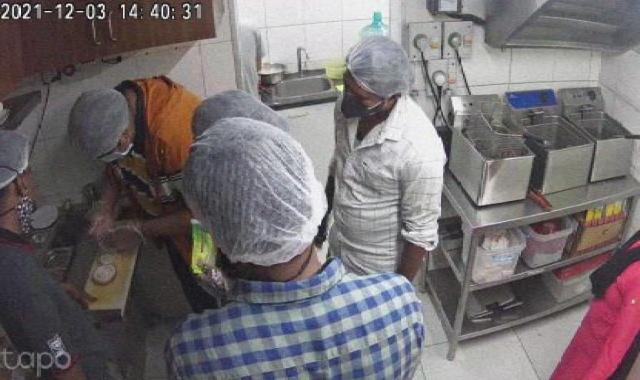hairnet: (185, 119, 327, 266), (190, 81, 303, 143), (64, 86, 136, 169), (340, 31, 418, 104), (0, 127, 44, 199)
